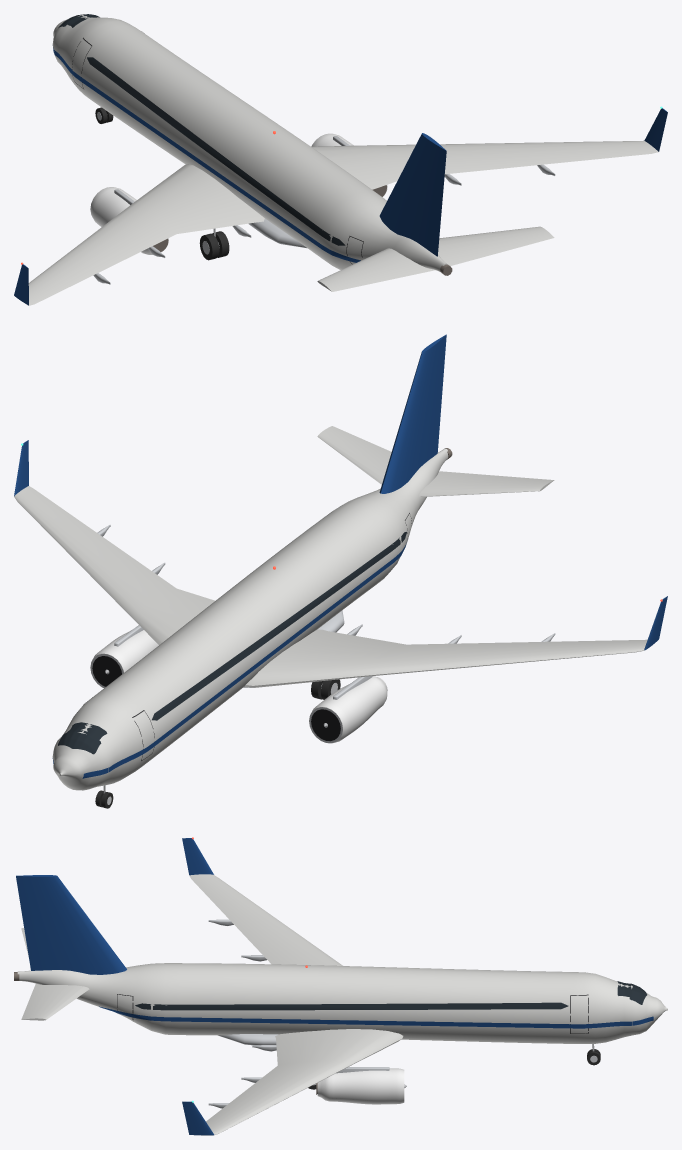
Rendered from liner.glb.
3 views of the same model, one above another, from view 1: azimuth 30°, elevation 25°; view 2: azimuth 150°, elevation 25°; view 3: azimuth 270°, elevation 25° (orthographic). The views are drawn at different scales.
Visible parts, largest first — view 1: Body, Gear; view 2: Body, Gear; view 3: Body.
Boxes of the visible parts, bbox=[...] form: Body: bbox=[14, 14, 667, 305]; Gear: bbox=[95, 107, 229, 260]; Body: bbox=[14, 334, 667, 790]; Gear: bbox=[95, 679, 340, 808]; Body: bbox=[14, 837, 667, 1135].
Size of the model in its own units: 34.61 by 11.45 by 36.2.
